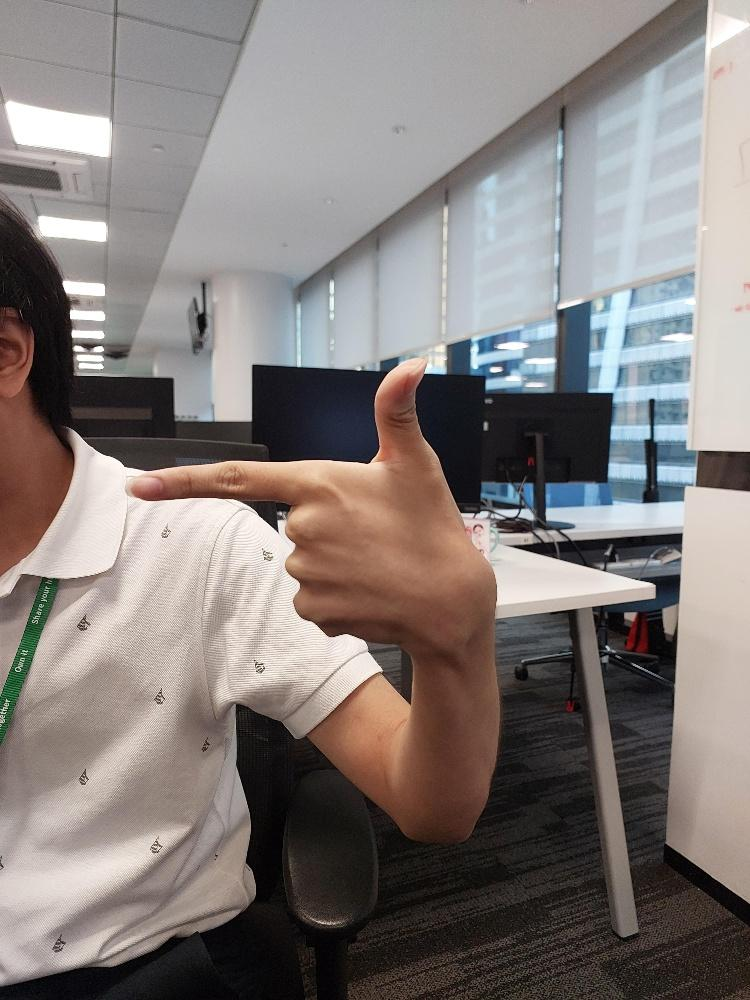g: (129, 351, 494, 636)
